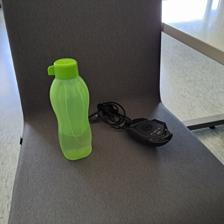bottle: (46, 57, 92, 161)
mouse: (123, 117, 173, 148)
